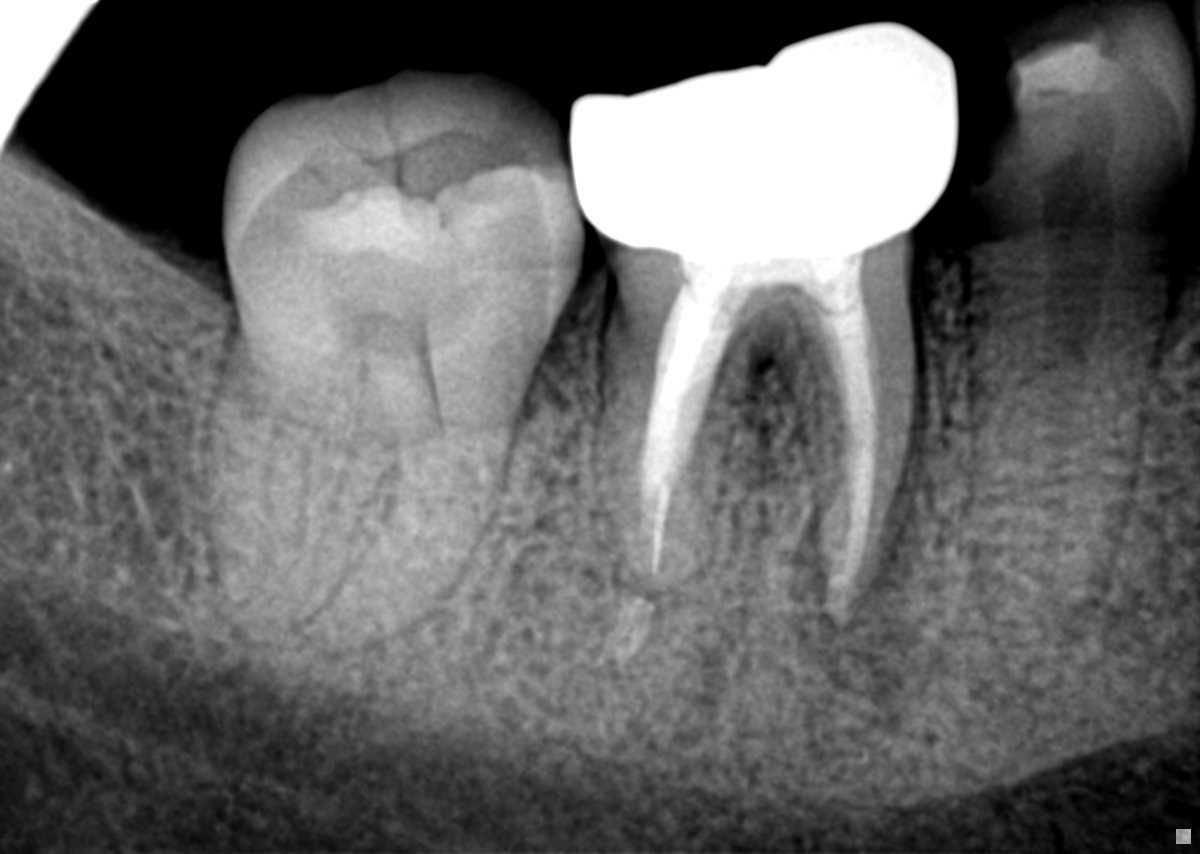Distal Root: (207, 333, 395, 635), (596, 282, 766, 588)
Main Canal: (1036, 210, 1114, 638)
Main Root: (961, 203, 1179, 683)
Mesial Root: (312, 406, 520, 654), (781, 323, 914, 620)
Root Canal Filling: (642, 278, 746, 566), (803, 292, 879, 616)
decay: (955, 78, 1033, 249)
